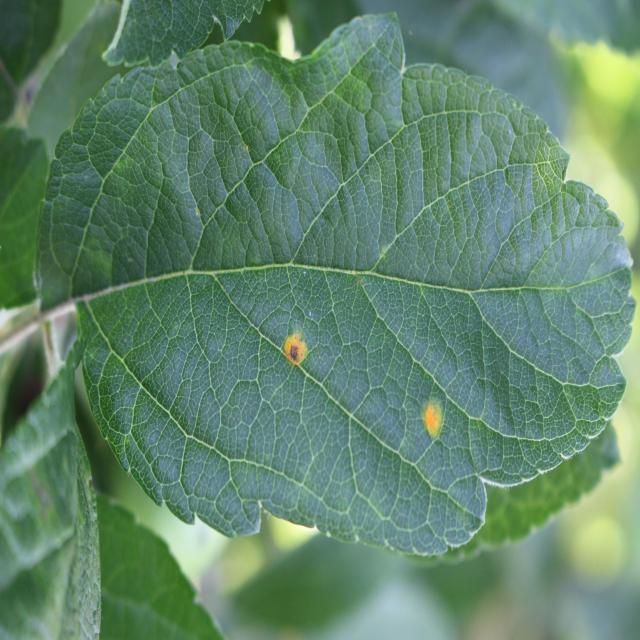Rust: (414, 385, 452, 455), (279, 327, 318, 375)
